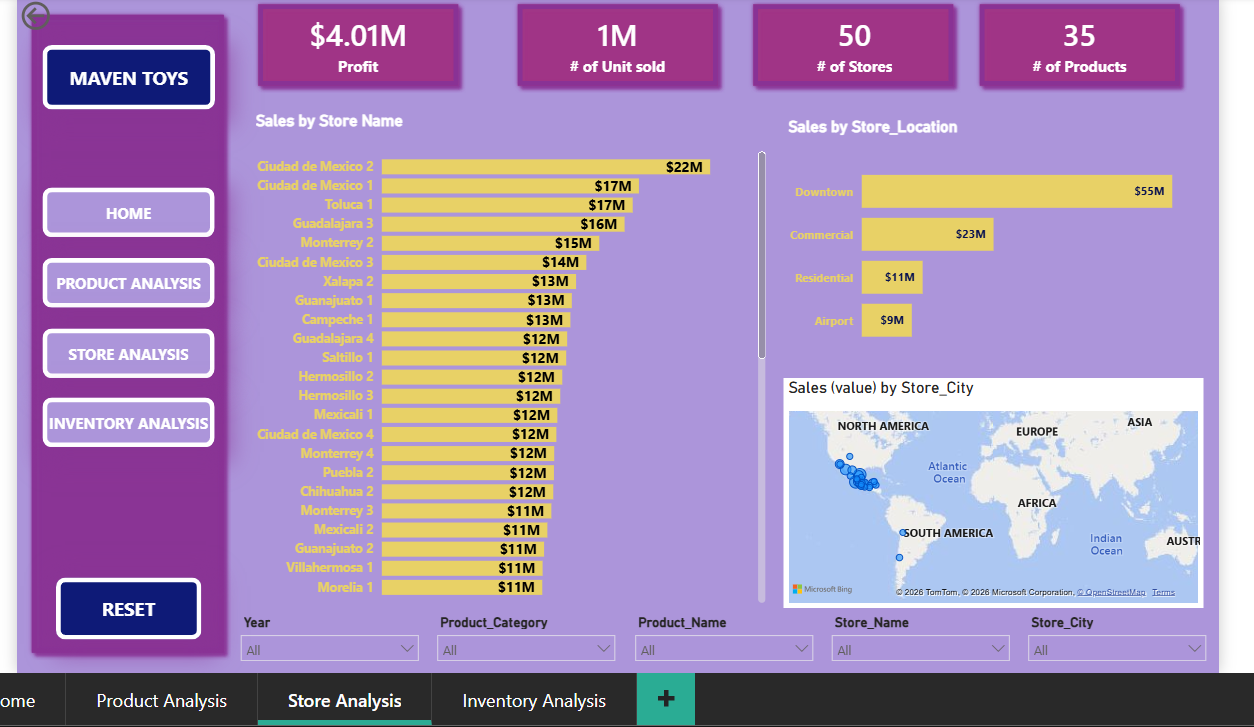

The page's visual inventory and layout, read from the dashboard file:
{"tool":"powerbi","page":{"name":"Store Analysis","canvas":[1280,720],"ordinal":2},"visuals":[{"type":"shape","box":[249.2,0,228.5,102.3],"z":1000},{"type":"shape","box":[8,11,220,695],"z":2000},{"type":"shape","box":[27.1,202.2,183.3,52.9],"z":4000},{"type":"shape","box":[27.1,277.8,183.3,52.9],"z":5000},{"type":"shape","box":[27.1,353.4,183.3,52.9],"z":6000},{"type":"shape","box":[27.1,427.1,183.3,52.9],"z":7000},{"type":"shape","box":[41.6,618,155,66.1],"z":8000},{"type":"actionButton","box":[0,0,100,40],"z":10000},{"type":"slicer","title":"Sales by Month","fields":{"Values":["calendar.Date.Variation.Date Hierarchy.Year"]},"box":[228.5,651.8,209.3,68.7],"z":11000},{"type":"cardVisual","title":"Sales by Month","fields":{"Data":["Sum(sales.Profit)"]},"box":[249.2,0,228.5,102.3],"z":12000},{"type":"shape","box":[776.5,0,228.5,102.3],"z":13000},{"type":"shape","box":[525.6,0,228.5,102.3],"z":14000},{"type":"shape","box":[1017.7,0,228.5,102.3],"z":15000},{"type":"cardVisual","title":"Sales by Month","fields":{"Data":["sales.sum of unit"]},"box":[525.6,0,228.5,102.3],"z":16000},{"type":"cardVisual","title":"Sales by Month","fields":{"Data":["Count(products.Product_ID)"]},"box":[1017.7,0,228.5,102.3],"z":17000},{"type":"cardVisual","title":"Sales by Month","fields":{"Data":["CountNonNull(stores.Store_ID)"]},"box":[778.1,0,228.5,102.3],"z":18000},{"type":"slicer","title":"Sales by Month","fields":{"Values":["products.Product_Category"]},"box":[437.8,651.8,209.3,68.7],"z":19000},{"type":"slicer","title":"Sales by Month","fields":{"Values":["products.Product_Name"]},"box":[648.7,651.8,209.3,68.7],"z":20000},{"type":"slicer","title":"Sales by Month","fields":{"Values":["stores.Store_City"]},"box":[1067.2,651.8,209.3,68.7],"z":21000},{"type":"slicer","title":"Sales by Month","fields":{"Values":["stores.Store_Name"]},"box":[857.9,651.8,209.3,68.7],"z":22000},{"type":"shape","box":[27.2,51.1,183.7,68.7],"z":23000},{"type":"barChart","fields":{"Y":["sales.Sales (value)"],"Category":["stores.Store_Location","stores.Store_City"]},"box":[816.4,127.8,448.9,258.8],"z":24000},{"type":"barChart","fields":{"Y":["sales.Sales (value)"],"Category":["stores.Store_Name"]},"box":[249.2,121.4,552.8,528.8],"z":25000},{"type":"map","fields":{"Category":["stores.Store_City"],"Size":["sales.Sales (value)"]},"box":[816.4,405.8,447.3,244.4],"z":26000}]}

Visuals, with their boxes on the page's 1280x720 design canvas (x1, y1, x2, y2). These are canvas units, not pixel positions in the 1254x727 screenshot, which may show the page scaled, cropped or inside an application window:
shape: <bbox>249, 0, 478, 102</bbox>
shape: <bbox>8, 11, 228, 706</bbox>
shape: <bbox>27, 202, 210, 255</bbox>
shape: <bbox>27, 278, 210, 331</bbox>
shape: <bbox>27, 353, 210, 406</bbox>
shape: <bbox>27, 427, 210, 480</bbox>
shape: <bbox>42, 618, 197, 684</bbox>
actionButton: <bbox>0, 0, 100, 40</bbox>
"Sales by Month" slicer: <bbox>228, 652, 438, 720</bbox>
"Sales by Month" cardVisual: <bbox>249, 0, 478, 102</bbox>
shape: <bbox>776, 0, 1005, 102</bbox>
shape: <bbox>526, 0, 754, 102</bbox>
shape: <bbox>1018, 0, 1246, 102</bbox>
"Sales by Month" cardVisual: <bbox>526, 0, 754, 102</bbox>
"Sales by Month" cardVisual: <bbox>1018, 0, 1246, 102</bbox>
"Sales by Month" cardVisual: <bbox>778, 0, 1007, 102</bbox>
"Sales by Month" slicer: <bbox>438, 652, 647, 720</bbox>
"Sales by Month" slicer: <bbox>649, 652, 858, 720</bbox>
"Sales by Month" slicer: <bbox>1067, 652, 1276, 720</bbox>
"Sales by Month" slicer: <bbox>858, 652, 1067, 720</bbox>
shape: <bbox>27, 51, 211, 120</bbox>
barChart - sales.Sales (value) x stores.Store_Location: <bbox>816, 128, 1265, 387</bbox>
barChart - sales.Sales (value) x stores.Store_Name: <bbox>249, 121, 802, 650</bbox>
map - stores.Store_City x sales.Sales (value): <bbox>816, 406, 1264, 650</bbox>
